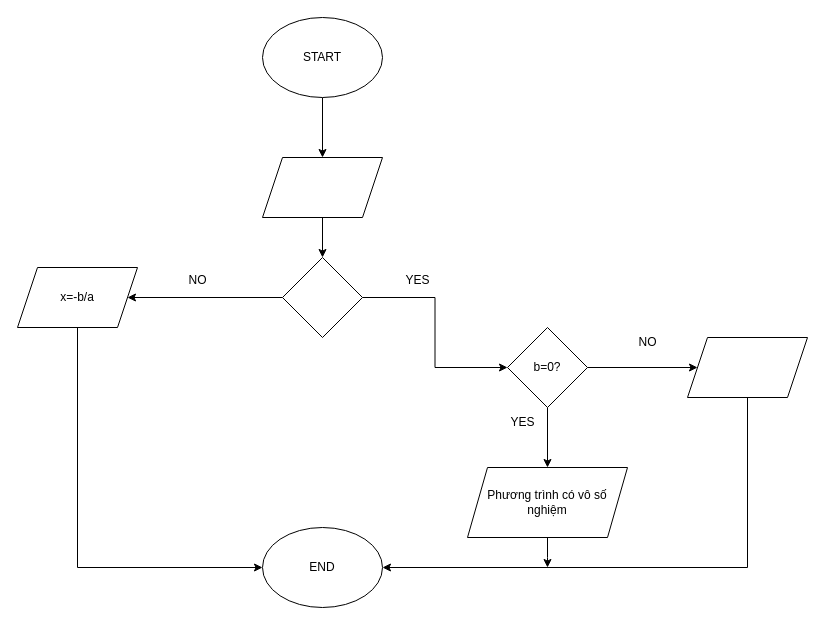
This 825x625 diagram has some shape labels left out. The shapes that lost their labels are listed below. From the top down, each one's centre as x and y in pixels, then its label:
point (322, 187): a,b
point (322, 297): a=0?
point (747, 367): Phương trình vô nghiệm
